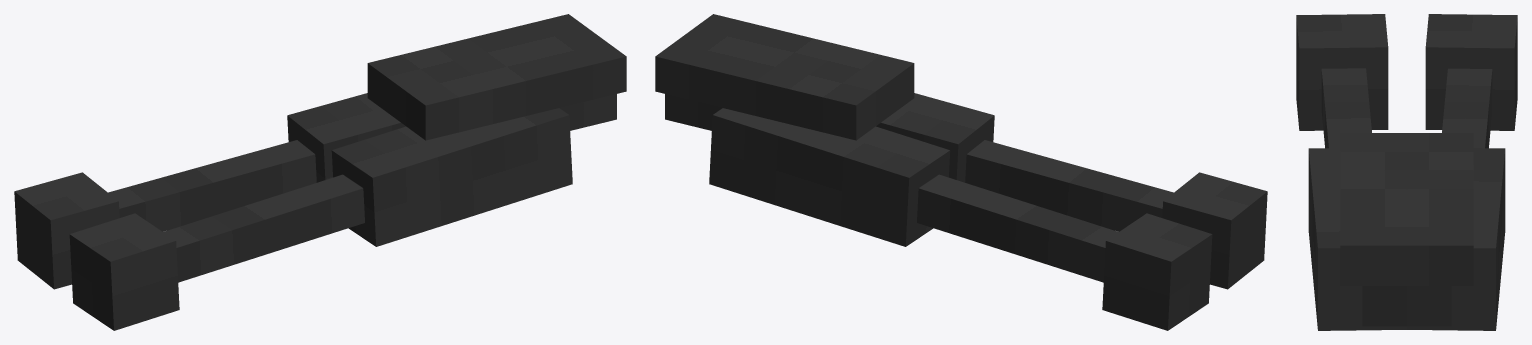
Rendered from bipod.obj.
The picture shows the model from 3 angles, left to right: view 1: azimuth 30°, elevation 25°; view 2: azimuth 150°, elevation 25°; view 3: azimuth 270°, elevation 25°; orthographic projection. The views are drawn at different scales.
Visible parts, largest first — view 1: Shape1, Shape3, Shape7, Shape8, Shape5, Shape6, Shape2, Shape4; view 2: Shape1, Shape2, Shape5, Shape6, Shape7, Shape8, Shape3, Shape4; view 3: Shape1, Shape6, Shape8, Shape2, Shape3, Shape4, Shape7, Shape5.
Boxes of the visible parts, x1=… form: Shape1: x1=367, y1=14, x2=626, y2=140; Shape3: x1=331, y1=108, x2=572, y2=246; Shape7: x1=163, y1=174, x2=364, y2=282; Shape8: x1=69, y1=213, x2=179, y2=330; Shape5: x1=108, y1=140, x2=316, y2=231; Shape6: x1=14, y1=172, x2=119, y2=289; Shape2: x1=287, y1=93, x2=405, y2=182; Shape4: x1=559, y1=94, x2=616, y2=130; Shape1: x1=655, y1=14, x2=914, y2=140; Shape2: x1=709, y1=108, x2=950, y2=246; Shape5: x1=917, y1=174, x2=1118, y2=282; Shape6: x1=1102, y1=213, x2=1212, y2=330; Shape7: x1=965, y1=140, x2=1173, y2=231; Shape8: x1=1162, y1=172, x2=1267, y2=289; Shape3: x1=876, y1=93, x2=994, y2=182; Shape4: x1=665, y1=94, x2=722, y2=130; Shape1: x1=1340, y1=133, x2=1473, y2=285; Shape6: x1=1425, y1=14, x2=1517, y2=130; Shape8: x1=1296, y1=14, x2=1388, y2=130; Shape2: x1=1407, y1=148, x2=1505, y2=330; Shape3: x1=1308, y1=148, x2=1406, y2=330; Shape4: x1=1362, y1=286, x2=1451, y2=326; Shape7: x1=1321, y1=68, x2=1371, y2=148; Shape5: x1=1442, y1=68, x2=1492, y2=148.
Size of the model in its own units: 1 by 0.2333 by 0.3111.
